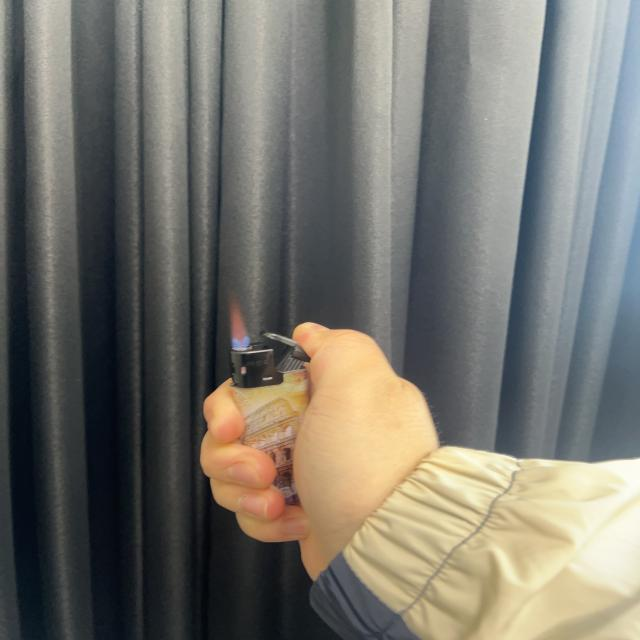fire: (226, 288, 250, 348)
